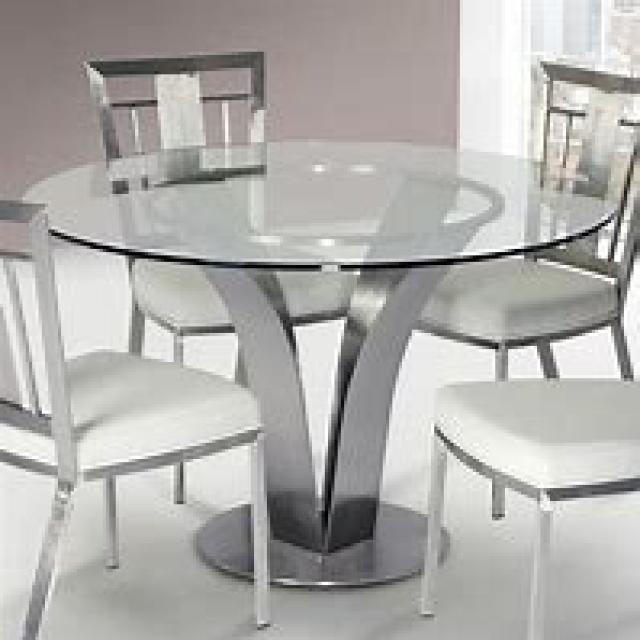chair: (0, 194, 270, 637)
table: (16, 136, 624, 588)
